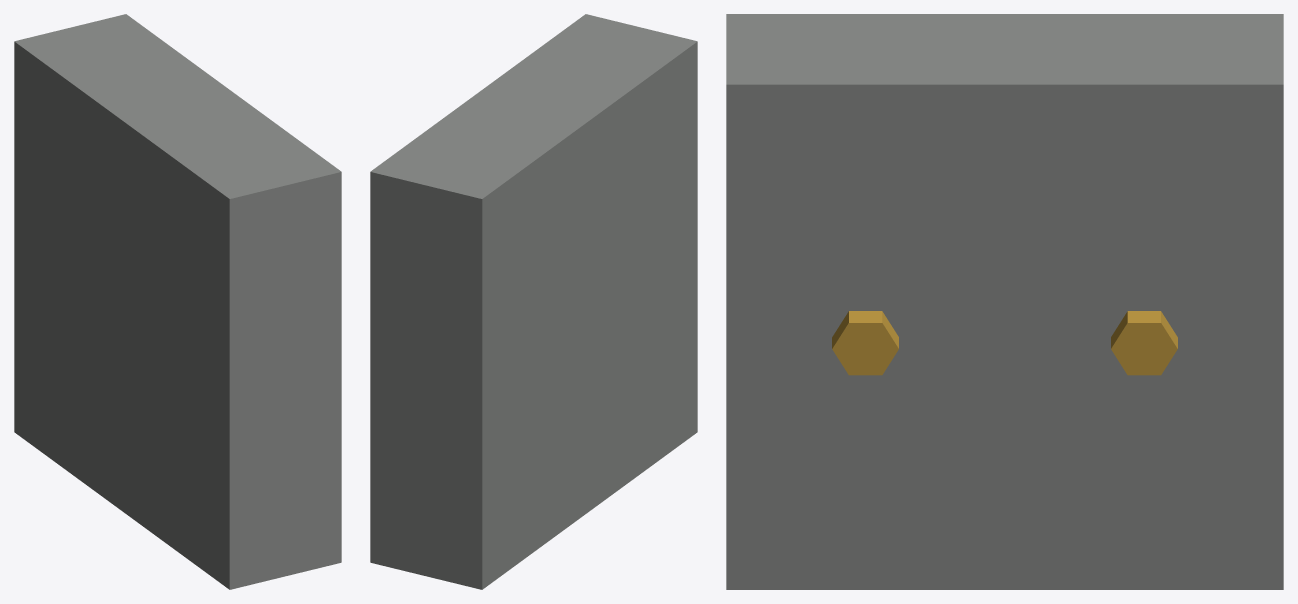
The model's file is install.socket-back.glb.
The picture shows the model from 3 angles, left to right: view 1: azimuth 30°, elevation 25°; view 2: azimuth 150°, elevation 25°; view 3: azimuth 270°, elevation 25°; orthographic projection. The views are drawn at different scales.
Visible parts, largest first — view 1: back; view 2: back; view 3: back, term0.025, term-0.025.
Part boxes in pixels (x1,y1,x2,y2): back: (14,14,341,589); back: (370,14,697,589); back: (726,14,1283,589); term0.025: (1111,311,1177,375); term-0.025: (832,311,898,375).
Size of the model in its own units: 0.035 by 0.1 by 0.1.
